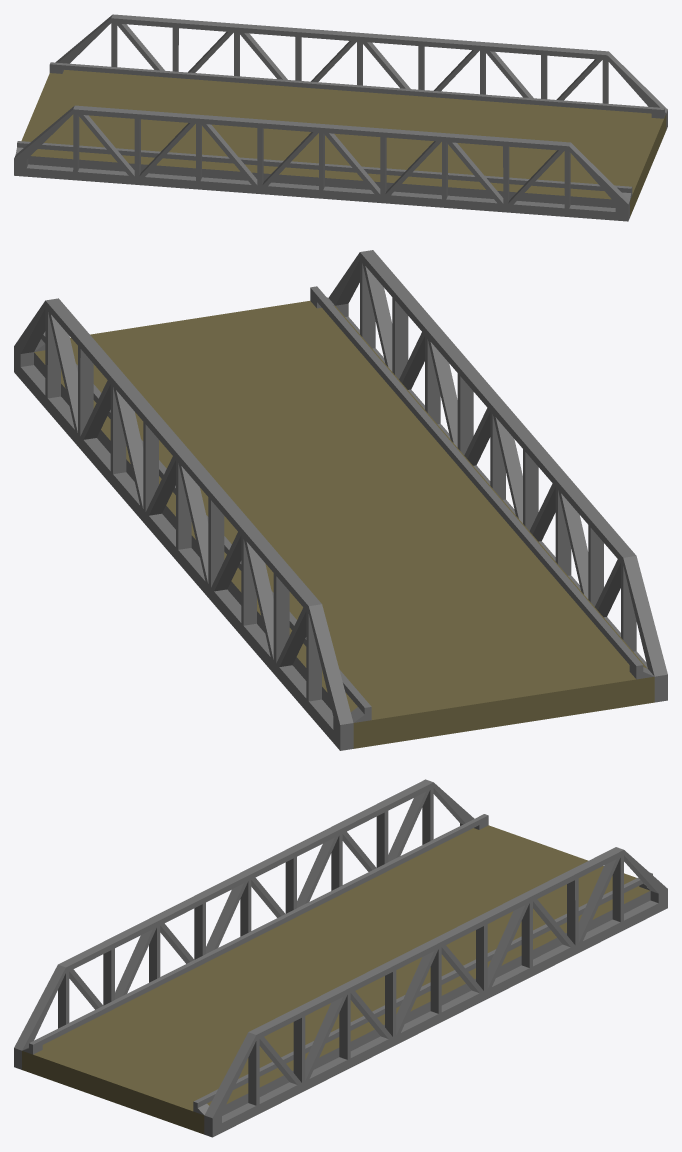
The model's file is Canyon_Bridge.FBX.
The picture shows the model from 3 angles, top to bottom: view 1: azimuth 30°, elevation 25°; view 2: azimuth 150°, elevation 25°; view 3: azimuth 270°, elevation 25°; orthographic projection. The views are drawn at different scales.
Visible parts, largest first — view 1: Canyon_Bridge; view 2: Canyon_Bridge; view 3: Canyon_Bridge.
Boxes of the visible parts, <box> form: Canyon_Bridge: <box>14,14,667,221</box>; Canyon_Bridge: <box>14,250,667,750</box>; Canyon_Bridge: <box>14,779,667,1137</box>.
Bounding box in the file's own units: 3941 × 493 × 3634.
